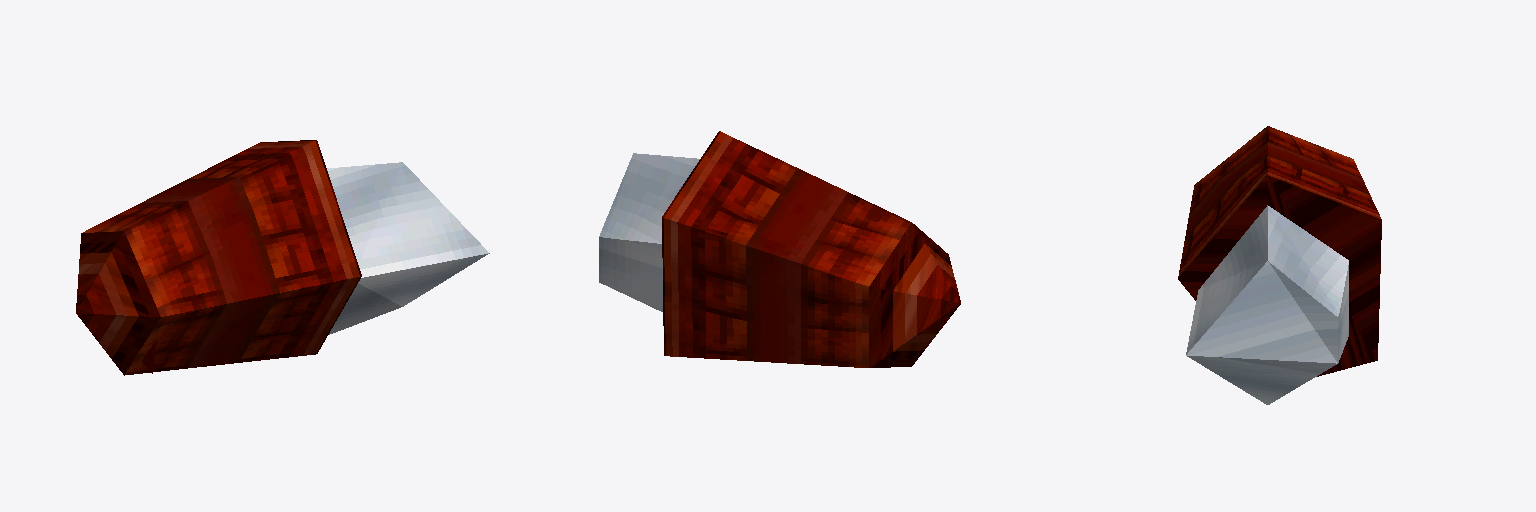
The picture shows the model from 3 angles: view 1: azimuth 30°, elevation 25°; view 2: azimuth 150°, elevation 25°; view 3: azimuth 270°, elevation 25°; orthographic projection.
Parts seen in each view (by area): view 1: AdultLink; view 2: AdultLink; view 3: AdultLink.
Boxes of the visible parts, box(x1,y1,x2,y2) form: AdultLink: box(76, 140, 489, 375); AdultLink: box(599, 131, 960, 367); AdultLink: box(1178, 126, 1381, 404).
Size of the model in its own units: 1.96 by 1.07 by 0.9262.
3 materials, 3 textured.